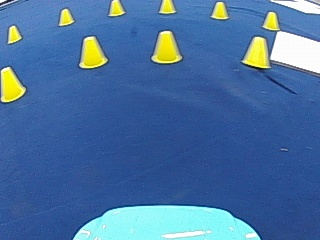cone: (150, 29, 182, 63), (78, 35, 107, 68), (241, 35, 270, 68), (0, 66, 25, 101), (210, 1, 229, 20), (262, 11, 279, 30), (58, 8, 74, 26), (108, 0, 125, 16), (7, 24, 21, 43), (158, 0, 175, 14)
